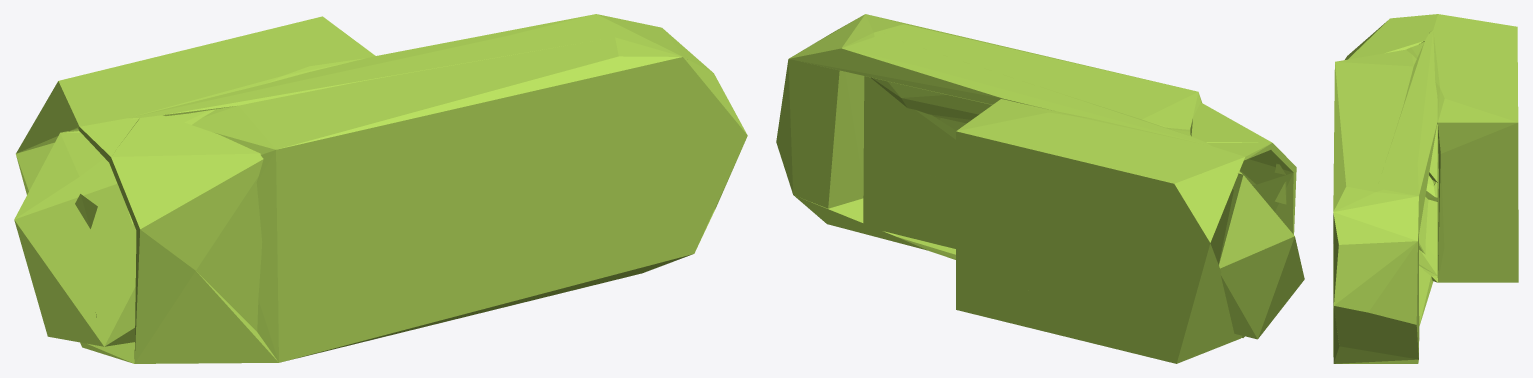
The picture shows the model from 3 angles, left to right: view 1: azimuth 30°, elevation 25°; view 2: azimuth 150°, elevation 25°; view 3: azimuth 270°, elevation 25°; orthographic projection. The views are drawn at different scales.
Parts seen in each view (by area): view 1: right_link4; view 2: right_link4; view 3: right_link4.
Boxes of the visible parts, box(x1,y1,x2,y2) form: right_link4: box(14, 14, 747, 363); right_link4: box(776, 14, 1304, 363); right_link4: box(1333, 14, 1518, 363).
Size of the model in its own units: 0.2688 by 0.0861 by 0.0884.
